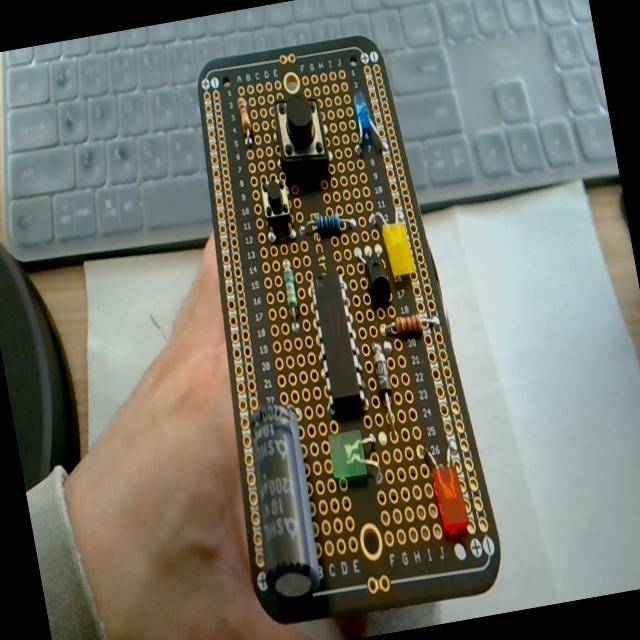Electrolytic capacitor: (234, 397, 330, 618)
IC: (300, 266, 374, 418)
diode: (370, 346, 404, 432)
led: (410, 428, 480, 536), (316, 416, 392, 502), (367, 192, 425, 284), (347, 82, 392, 164)
resistor: (378, 306, 447, 346), (276, 253, 304, 337), (300, 208, 360, 242), (231, 89, 260, 154)
switch: (270, 82, 330, 176), (253, 163, 294, 228)
transistor: (350, 238, 400, 319)
